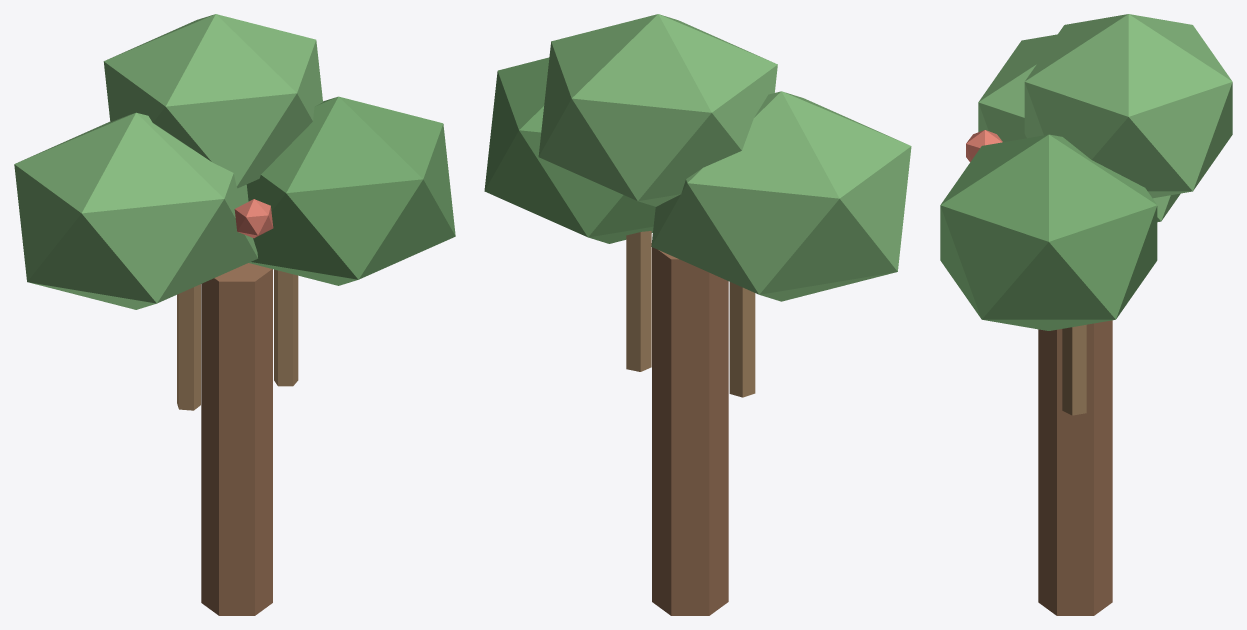
File: apple_tree.glb
The picture shows the model from 3 angles, left to right: view 1: azimuth 30°, elevation 25°; view 2: azimuth 150°, elevation 25°; view 3: azimuth 270°, elevation 25°; orthographic projection. The views are drawn at different scales.
Visible parts, largest first — view 1: canopy_0, canopy_1, trunk, canopy_2, branch_0, branch_1, apple_4; view 2: canopy_0, canopy_2, trunk, canopy_1, branch_1, branch_0; view 3: canopy_1, canopy_2, trunk, canopy_0, branch_1, apple_4.
Boxes of the visible parts, left/top/right/bottom form: canopy_0: left=14, top=112, right=257, bottom=309; canopy_1: left=246, top=96, right=455, bottom=285; trunk: left=201, top=263, right=272, bottom=615; canopy_2: left=103, top=14, right=322, bottom=188; branch_0: left=177, top=284, right=200, bottom=410; branch_1: left=274, top=269, right=298, bottom=386; apple_4: left=234, top=199, right=273, bottom=238; canopy_0: left=651, top=91, right=911, bottom=301; canopy_2: left=538, top=14, right=777, bottom=206; trunk: left=652, top=247, right=728, bottom=615; canopy_1: left=484, top=57, right=655, bottom=243; branch_1: left=626, top=231, right=651, bottom=371; branch_0: left=729, top=282, right=755, bottom=397; canopy_1: left=940, top=134, right=1157, bottom=330; canopy_2: left=1024, top=14, right=1232, bottom=198; trunk: left=1038, top=320, right=1112, bottom=615; canopy_0: left=978, top=34, right=1180, bottom=222; branch_1: left=1062, top=324, right=1086, bottom=415; apple_4: left=966, top=130, right=1002, bottom=161.
Size of the model in its own units: 1.78 by 2.45 by 1.1.
